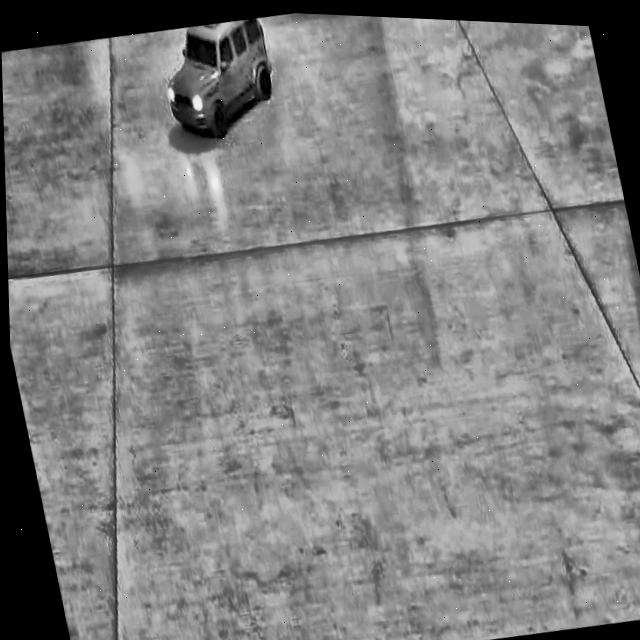light_vehicle: (148, 11, 284, 145)
